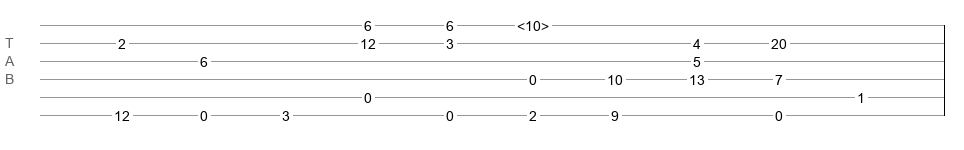0: (200, 108, 208, 118), (364, 90, 372, 100), (446, 108, 454, 118), (529, 72, 537, 82), (775, 108, 783, 118)
1: (857, 90, 865, 100)
10: (607, 72, 623, 82)
12: (114, 108, 130, 118), (360, 36, 376, 46)
13: (689, 72, 705, 82)
2: (118, 36, 126, 46), (529, 108, 537, 118)
20: (771, 36, 787, 46)
3: (282, 108, 290, 118), (446, 36, 454, 46)
4: (693, 36, 701, 46)
5: (693, 54, 701, 64)
6: (200, 54, 208, 64), (364, 18, 372, 28), (446, 18, 454, 28)
7: (775, 72, 783, 82)
9: (611, 108, 619, 118)
harmonic: (517, 18, 549, 28)
